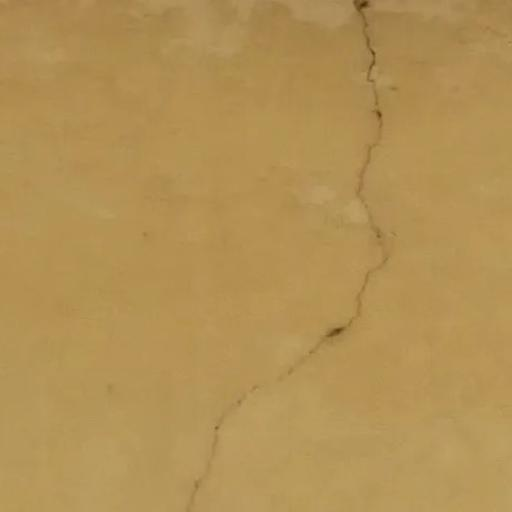minor_crack: (184, 0, 402, 512)
